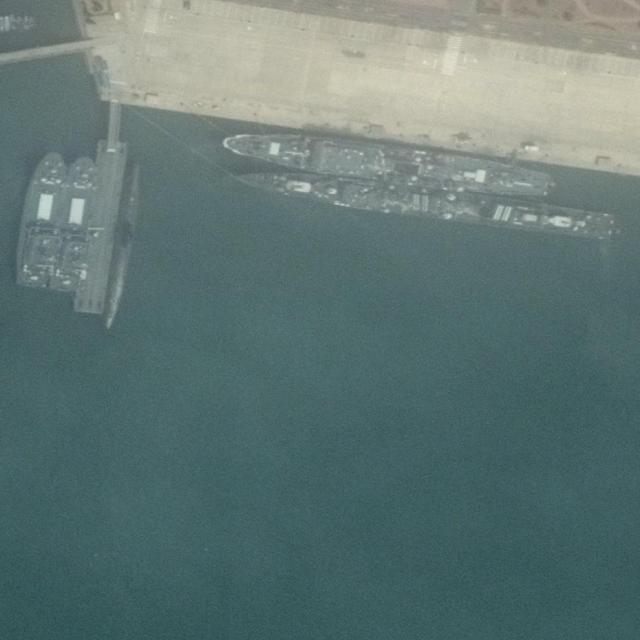Destroyer: (229, 161, 616, 242), (215, 126, 557, 206)
Dock: (76, 138, 128, 313)
Landing: (10, 149, 68, 292), (45, 152, 98, 292)
Submarine: (96, 153, 146, 334)
